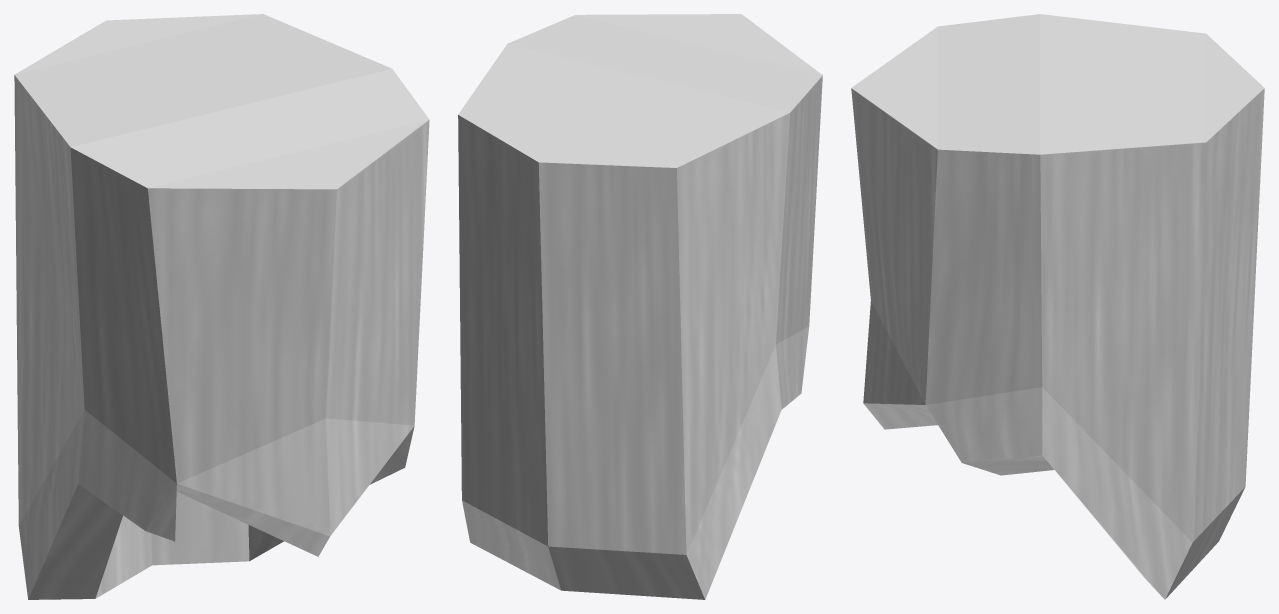
The model's file is slim_jim.glb.
3 views of the same model, side by side, from view 1: azimuth 30°, elevation 25°; view 2: azimuth 150°, elevation 25°; view 3: azimuth 270°, elevation 25° (orthographic). The views are drawn at different scales.
Visible parts, largest first — view 1: Slim Jim; view 2: Slim Jim; view 3: Slim Jim.
Part boxes in pixels (bbox=[...]): Slim Jim: bbox=[14, 14, 429, 599]; Slim Jim: bbox=[458, 14, 822, 599]; Slim Jim: bbox=[851, 14, 1264, 599].
Bounding box in the file's own units: 0.2478 × 0.3792 × 0.3078.
1 material, 1 textured.
